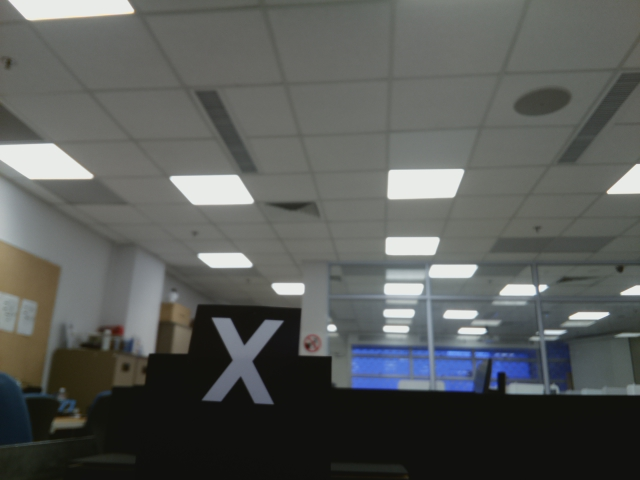x: (204, 311, 280, 408)
